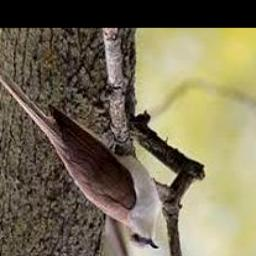Cuckoo: (0, 49, 160, 250)
